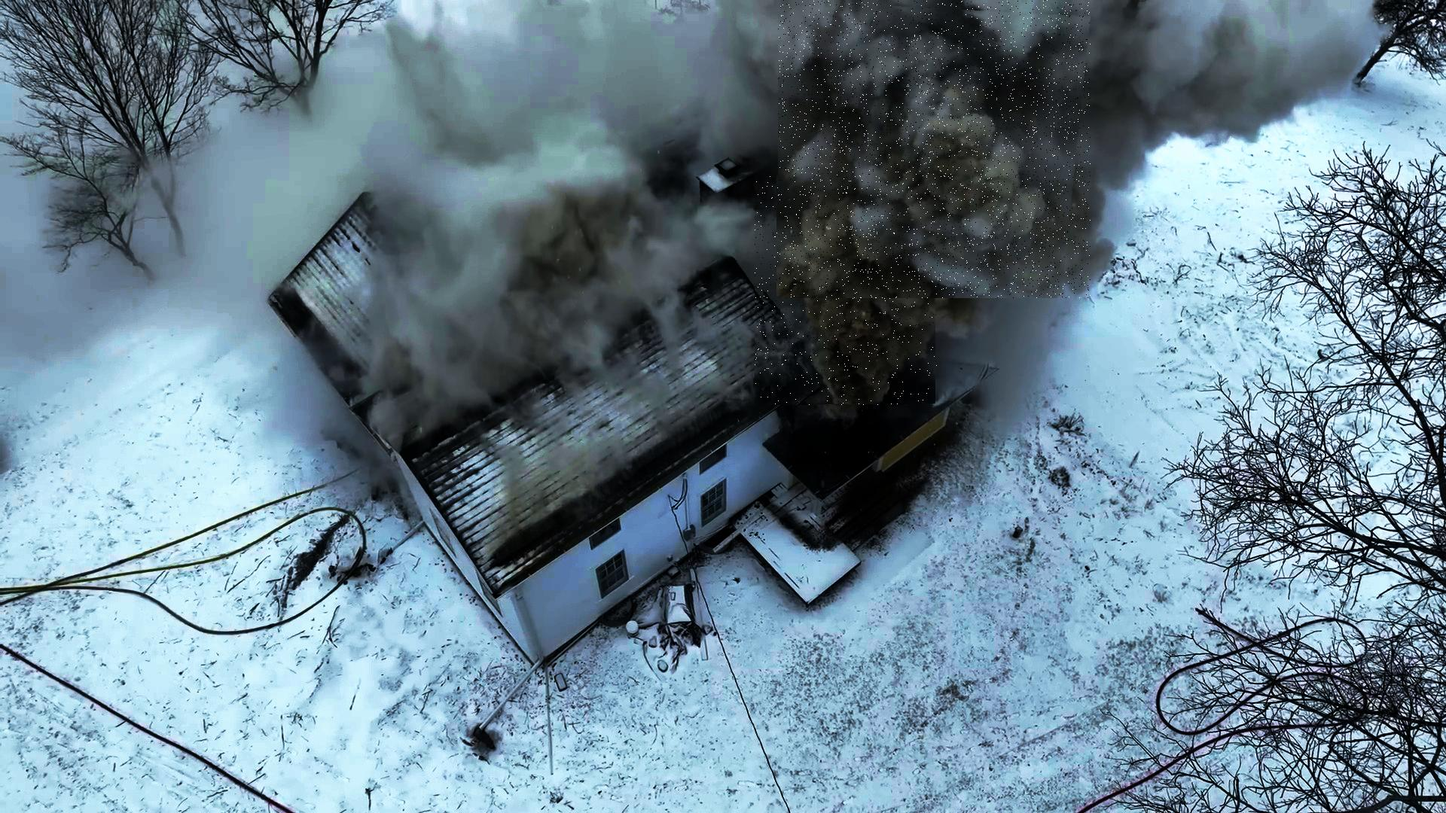smoke: (778, 0, 1091, 298), (755, 176, 938, 405)
